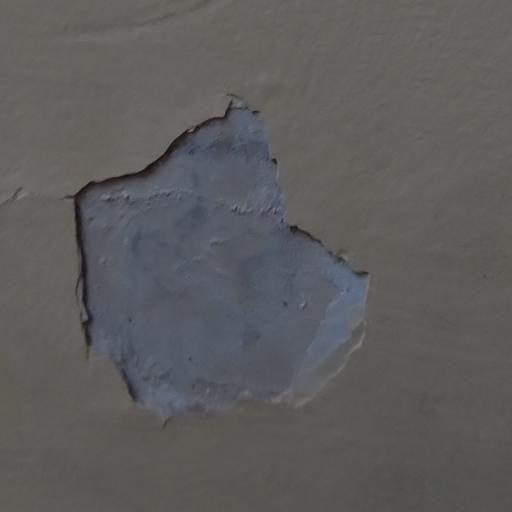peeling: (55, 85, 376, 431)
